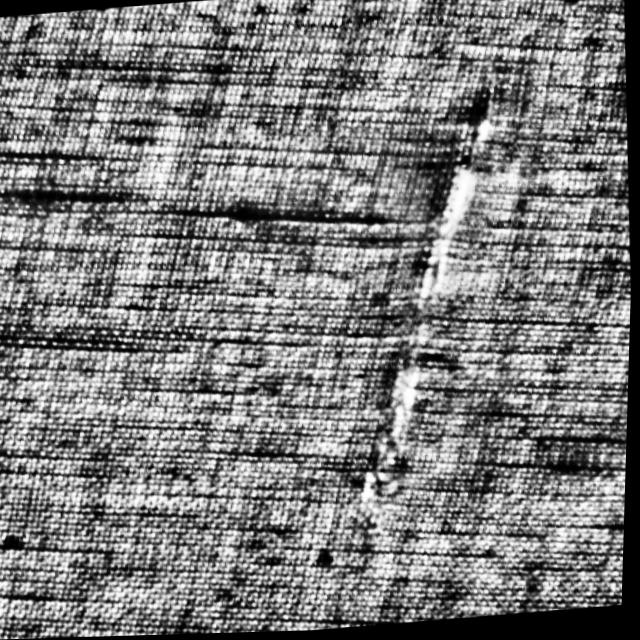Stitch: (335, 79, 534, 524)
